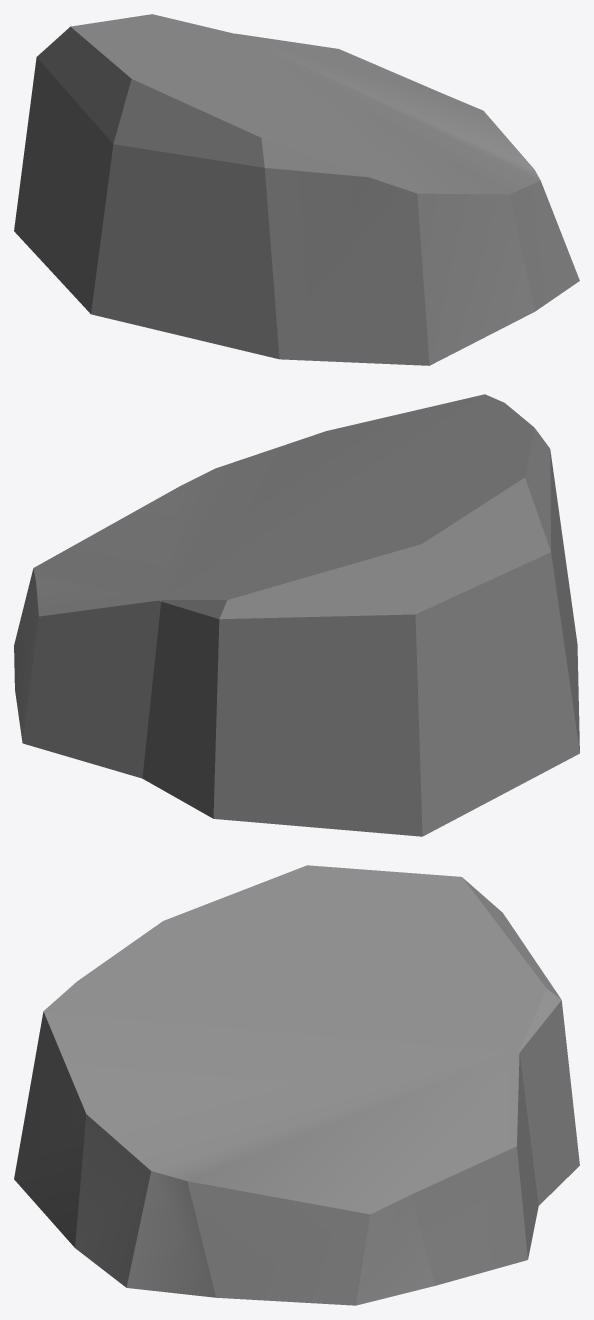
The model's file is HardRock_10.fbx.
The picture shows the model from 3 angles, top to bottom: view 1: azimuth 30°, elevation 25°; view 2: azimuth 150°, elevation 25°; view 3: azimuth 270°, elevation 25°; orthographic projection. The views are drawn at different scales.
Parts seen in each view (by area): view 1: HardRock_10; view 2: HardRock_10; view 3: HardRock_10.
Part boxes in pixels (box(x1,y1,x2,y2)): HardRock_10: box(14, 14, 579, 365); HardRock_10: box(14, 394, 579, 836); HardRock_10: box(14, 865, 579, 1305).
Bounding box in the file's own units: 141 × 68.37 × 148.
